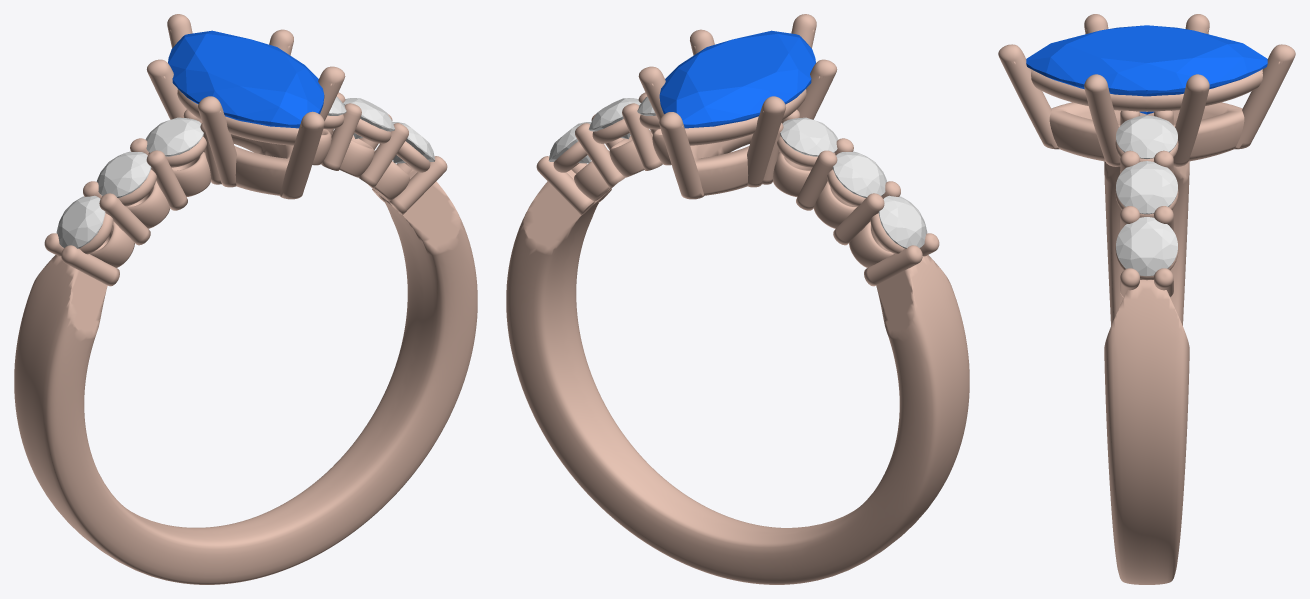
File: bluesapphire-marquise-rosegold-6prong-straighttaperedband-7stone.glb
3 views of the same model, side by side, from view 1: azimuth 30°, elevation 25°; view 2: azimuth 150°, elevation 25°; view 3: azimuth 270°, elevation 25° (orthographic).
Visible parts, largest first — view 1: metal.001, stone, dia, dia.003, dia.004, dia.006, dia.005; view 2: metal.001, stone, dia, dia.003, dia.004, dia.006, dia.005; view 3: metal.001, stone, dia.005, dia.006, dia.007.
Part boxes in pixels (x1=…): metal.001: x1=14, y1=14, x2=477, y2=584; stone: x1=168, y1=30, x2=324, y2=128; dia: x1=56, y1=195, x2=105, y2=248; dia.003: x1=96, y1=151, x2=151, y2=197; dia.004: x1=145, y1=117, x2=203, y2=156; dia.006: x1=343, y1=98, x2=394, y2=138; dia.005: x1=392, y1=122, x2=435, y2=163; metal.001: x1=506, y1=14, x2=969, y2=584; stone: x1=659, y1=30, x2=815, y2=128; dia: x1=878, y1=195, x2=927, y2=248; dia.003: x1=832, y1=151, x2=886, y2=197; dia.004: x1=780, y1=117, x2=838, y2=156; dia.006: x1=589, y1=98, x2=640, y2=139; dia.005: x1=548, y1=122, x2=591, y2=163; metal.001: x1=998, y1=14, x2=1295, y2=584; stone: x1=1026, y1=25, x2=1267, y2=114; dia.005: x1=1116, y1=217, x2=1177, y2=276; dia.006: x1=1116, y1=161, x2=1177, y2=214; dia.007: x1=1116, y1=115, x2=1177, y2=158.
Size of the model in its own units: 20.51 by 22.93 by 11.96.
